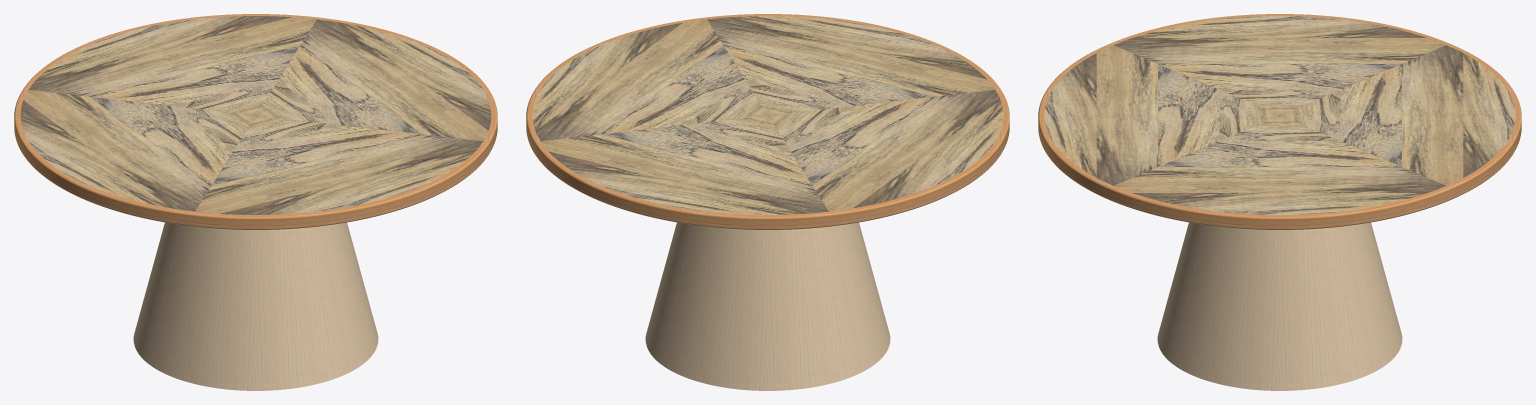
Rendered from IFD4221RND-mwn2jisf.glb.
The picture shows the model from 3 angles, left to right: view 1: azimuth 30°, elevation 25°; view 2: azimuth 150°, elevation 25°; view 3: azimuth 270°, elevation 25°; orthographic projection.
Visible parts, largest first — view 1: IFD4221RNDTP-CUBIERTA SUP-INF-1/IFD4221RNDTP-CUBIERTA ENSAMB (×16), 4221RND-TABLA LARGA-24, 4221RND-TABLA LARGA-25, 4221RND-TABLA LARGA-26, 4221RND-TABLA LARGA-23, 4221RND-TABLA LARGA-27, 4221RND-TABLA LARGA-22, 4221RND-TABLA LARGA-28, 4221RND-TABLA LARGA-21, IFD4221RNDTP-CUBIERTA SUP-INF-1/IFD4221RNDTP-CERCHA-13, IFD4221RNDTP-CUBIERTA SUP-INF-1/IFD4221RNDTP-CERCHA-14, IFD4221RNDTP-CUBIERTA SUP-INF-1/IFD4221RNDTP-CERCHA-12 (+6 smaller); view 2: IFD4221RNDTP-CUBIERTA SUP-INF-1/IFD4221RNDTP-CUBIERTA ENSAMB (×16), 4221RND-TABLA LARGA-30, 4221RND-TABLA LARGA-31, 4221RND-TABLA LARGA-32, 4221RND-TABLA LARGA-29, 4221RND-TABLA LARGA-33, 4221RND-TABLA LARGA-28, 4221RND-TABLA LARGA-34, 4221RND-TABLA LARGA-27, IFD4221RNDTP-CUBIERTA SUP-INF-1/IFD4221RNDTP-CERCHA-9, IFD4221RNDTP-CUBIERTA SUP-INF-1/IFD4221RNDTP-CERCHA-1, IFD4221RNDTP-CUBIERTA SUP-INF-1/IFD4221RNDTP-CERCHA-10 (+6 smaller); view 3: IFD4221RNDTP-CUBIERTA SUP-INF-1/IFD4221RNDTP-CUBIERTA ENSAMB (×16), 4221RND-TABLA LARGA-36, 4221RND-TABLA LARGA-1, 4221RND-TABLA LARGA-20, 4221RND-TABLA LARGA-35, 4221RND-TABLA LARGA-21, 4221RND-TABLA LARGA-34, 4221RND-TABLA LARGA-22, 4221RND-TABLA LARGA-33, IFD4221RNDTP-CUBIERTA SUP-INF-1/IFD4221RNDTP-CERCHA-17, IFD4221RNDTP-CUBIERTA SUP-INF-1/IFD4221RNDTP-CERCHA-16, IFD4221RNDTP-CUBIERTA SUP-INF-1/IFD4221RNDTP-CERCHA-18 (+6 smaller).
Boxes of the visible parts, x1=… form: IFD4221RNDTP-CUBIERTA SUP-INF-1/IFD4221RNDTP-CUBIERTA ENSAMB (×16): x1=20, y1=16, x2=491, y2=214; 4221RND-TABLA LARGA-24: x1=256, y1=229, x2=297, y2=390; 4221RND-TABLA LARGA-25: x1=214, y1=229, x2=255, y2=390; 4221RND-TABLA LARGA-26: x1=177, y1=227, x2=227, y2=387; 4221RND-TABLA LARGA-23: x1=284, y1=227, x2=334, y2=387; 4221RND-TABLA LARGA-27: x1=150, y1=225, x2=201, y2=378; 4221RND-TABLA LARGA-22: x1=310, y1=225, x2=361, y2=378; 4221RND-TABLA LARGA-28: x1=135, y1=223, x2=181, y2=364; 4221RND-TABLA LARGA-21: x1=330, y1=223, x2=376, y2=364; IFD4221RNDTP-CUBIERTA SUP-INF-1/IFD4221RNDTP-CERCHA-13: x1=193, y1=211, x2=318, y2=229; IFD4221RNDTP-CUBIERTA SUP-INF-1/IFD4221RNDTP-CERCHA-14: x1=317, y1=186, x2=426, y2=226; IFD4221RNDTP-CUBIERTA SUP-INF-1/IFD4221RNDTP-CERCHA-12: x1=85, y1=186, x2=194, y2=226; IFD4221RNDTP-CUBIERTA SUP-INF-1/IFD4221RNDTP-CUBIERTA ENSAMB (×16): x1=532, y1=16, x2=1003, y2=214; 4221RND-TABLA LARGA-30: x1=768, y1=229, x2=809, y2=390; 4221RND-TABLA LARGA-31: x1=726, y1=229, x2=767, y2=390; 4221RND-TABLA LARGA-32: x1=689, y1=227, x2=739, y2=387; 4221RND-TABLA LARGA-29: x1=796, y1=227, x2=846, y2=387; 4221RND-TABLA LARGA-33: x1=662, y1=225, x2=713, y2=378; 4221RND-TABLA LARGA-28: x1=822, y1=225, x2=873, y2=378; 4221RND-TABLA LARGA-34: x1=647, y1=223, x2=693, y2=364; 4221RND-TABLA LARGA-27: x1=842, y1=223, x2=888, y2=364; IFD4221RNDTP-CUBIERTA SUP-INF-1/IFD4221RNDTP-CERCHA-9: x1=705, y1=211, x2=830, y2=229; IFD4221RNDTP-CUBIERTA SUP-INF-1/IFD4221RNDTP-CERCHA-1: x1=597, y1=186, x2=706, y2=226; IFD4221RNDTP-CUBIERTA SUP-INF-1/IFD4221RNDTP-CERCHA-10: x1=829, y1=186, x2=938, y2=226; IFD4221RNDTP-CUBIERTA SUP-INF-1/IFD4221RNDTP-CUBIERTA ENSAMB (×16): x1=1044, y1=16, x2=1515, y2=214; 4221RND-TABLA LARGA-36: x1=1280, y1=229, x2=1321, y2=390; 4221RND-TABLA LARGA-1: x1=1238, y1=229, x2=1279, y2=390; 4221RND-TABLA LARGA-20: x1=1201, y1=227, x2=1251, y2=387; 4221RND-TABLA LARGA-35: x1=1308, y1=227, x2=1358, y2=387; 4221RND-TABLA LARGA-21: x1=1174, y1=225, x2=1225, y2=378; 4221RND-TABLA LARGA-34: x1=1334, y1=225, x2=1385, y2=378; 4221RND-TABLA LARGA-22: x1=1159, y1=223, x2=1205, y2=364; 4221RND-TABLA LARGA-33: x1=1354, y1=223, x2=1400, y2=364; IFD4221RNDTP-CUBIERTA SUP-INF-1/IFD4221RNDTP-CERCHA-17: x1=1217, y1=211, x2=1342, y2=229; IFD4221RNDTP-CUBIERTA SUP-INF-1/IFD4221RNDTP-CERCHA-16: x1=1109, y1=186, x2=1218, y2=226; IFD4221RNDTP-CUBIERTA SUP-INF-1/IFD4221RNDTP-CERCHA-18: x1=1341, y1=186, x2=1450, y2=226.
Bounding box in the file's own units: 1.52 × 0.776 × 1.52.
Materials: 9 (5 with a texture image).
